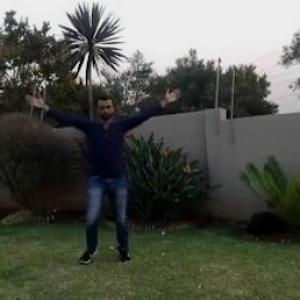takeoff: (12, 87, 185, 265)
